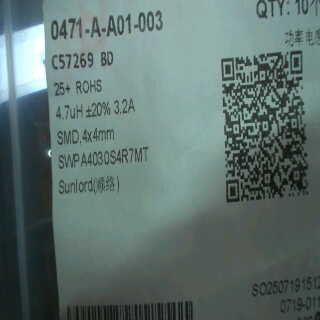4.7uH: (53, 99, 84, 127)
